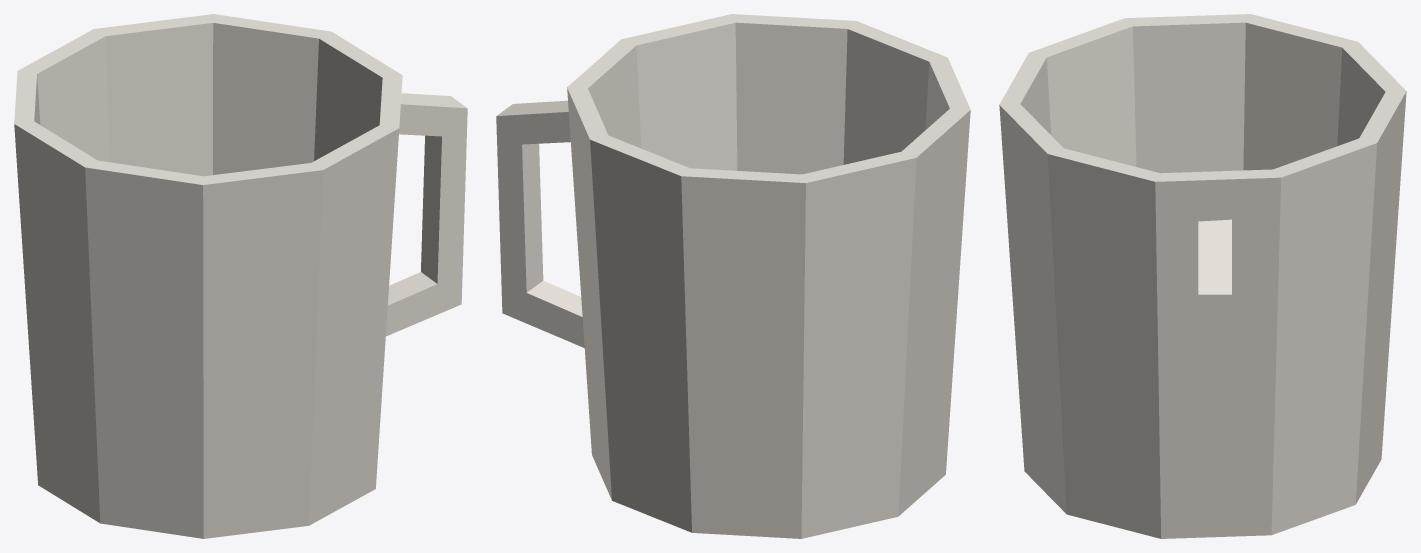
The model's file is Cup_1.fbx.
The picture shows the model from 3 angles, left to right: view 1: azimuth 30°, elevation 25°; view 2: azimuth 150°, elevation 25°; view 3: azimuth 270°, elevation 25°; orthographic projection.
Visible parts, largest first — view 1: polySurface1539; view 2: polySurface1539; view 3: polySurface1539.
Part boxes in pixels (x1,y1,x2,y2): polySurface1539: (14,14,467,538); polySurface1539: (496,14,970,538); polySurface1539: (999,14,1406,538).
Size of the model in its own units: 0.2438 by 0.1985 by 0.1994.
Materials: 1 (1 with a texture image).
